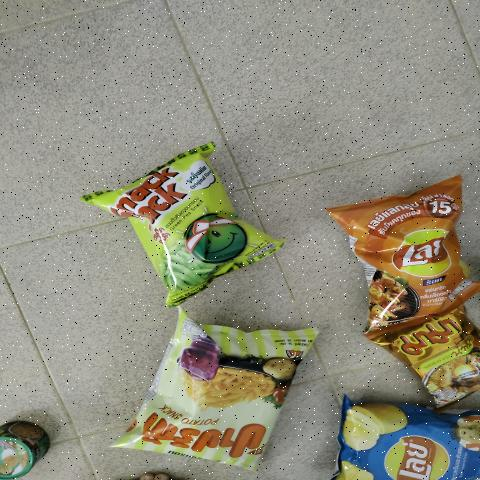lay_blue: (352, 402, 480, 478)
mama: (396, 327, 480, 387)
paprika: (164, 332, 259, 468)
snack_jack: (170, 207, 230, 281)
